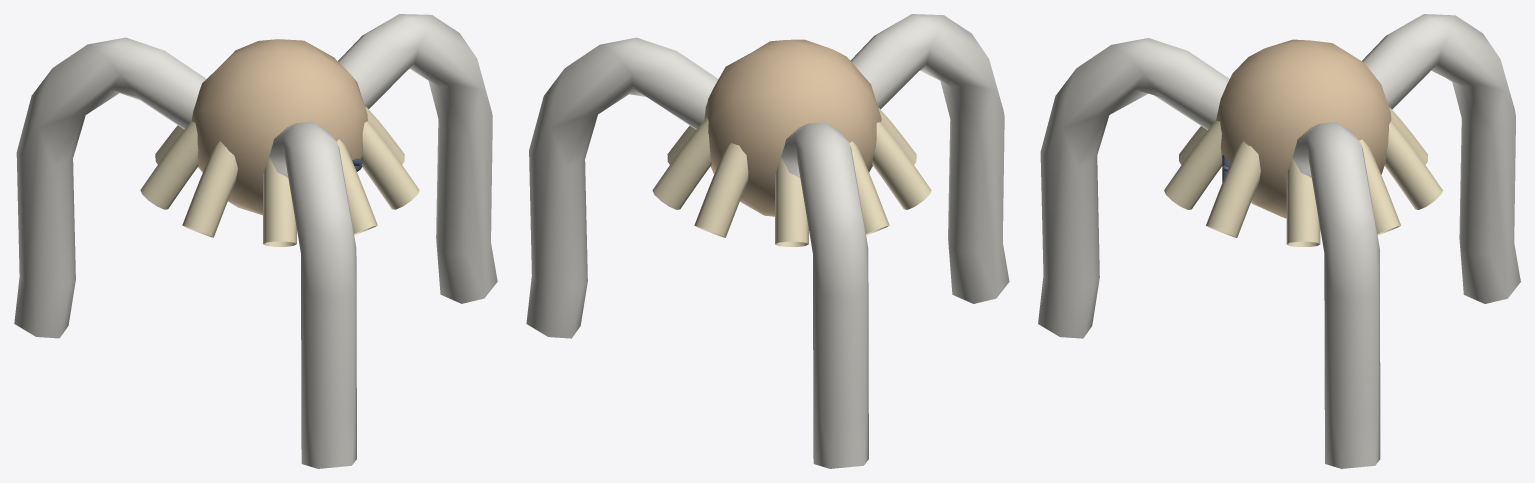
The model's file is bio_tripod_bell_04_far.glb.
The picture shows the model from 3 angles, left to right: view 1: azimuth 30°, elevation 25°; view 2: azimuth 150°, elevation 25°; view 3: azimuth 270°, elevation 25°; orthographic projection.
Visible parts, largest first — view 1: Arched tripod.001, Arched tripod, Arched tripod.002, Hanging bell core, Flared rib.005, Flared rib.004, Flared rib.008, Flared rib.006, Flared rib.007, Flared rib; view 2: Arched tripod, Arched tripod.002, Arched tripod.001, Hanging bell core, Flared rib.002, Flared rib.001, Flared rib.005, Flared rib.003, Flared rib.004, Flared rib.006; view 3: Arched tripod.002, Arched tripod.001, Arched tripod, Hanging bell core, Flared rib.008, Flared rib.007, Flared rib.002, Flared rib, Flared rib.001, Flared rib.003.
Boxes of the visible parts, x1,y1,x2,y2 form: Arched tripod.001: [14, 37, 206, 338]; Arched tripod: [338, 14, 497, 303]; Arched tripod.002: [269, 122, 356, 468]; Hanging bell core: [191, 39, 367, 215]; Flared rib.005: [182, 141, 237, 237]; Flared rib.004: [140, 120, 198, 209]; Flared rib.008: [360, 120, 419, 209]; Flared rib.006: [263, 158, 296, 246]; Flared rib.007: [337, 139, 377, 235]; Flared rib: [365, 107, 404, 164]; Arched tripod: [526, 37, 718, 338]; Arched tripod.002: [850, 14, 1009, 303]; Arched tripod.001: [781, 122, 868, 468]; Hanging bell core: [704, 39, 881, 216]; Flared rib.002: [694, 143, 748, 237]; Flared rib.001: [652, 117, 711, 209]; Flared rib.005: [872, 122, 931, 209]; Flared rib.003: [775, 159, 808, 246]; Flared rib.004: [849, 141, 889, 235]; Flared rib.006: [878, 107, 916, 164]; Arched tripod.002: [1038, 38, 1229, 338]; Arched tripod.001: [1362, 14, 1520, 303]; Arched tripod: [1292, 122, 1380, 468]; Hanging bell core: [1216, 39, 1391, 218]; Flared rib.008: [1206, 141, 1260, 237]; Flared rib.007: [1164, 120, 1222, 209]; Flared rib.002: [1384, 120, 1442, 209]; Flared rib: [1286, 159, 1320, 246]; Flared rib.001: [1359, 139, 1400, 235]; Flared rib.003: [1389, 107, 1427, 164].
Size of the model in its own units: 2.49 by 1.85 by 2.57.
